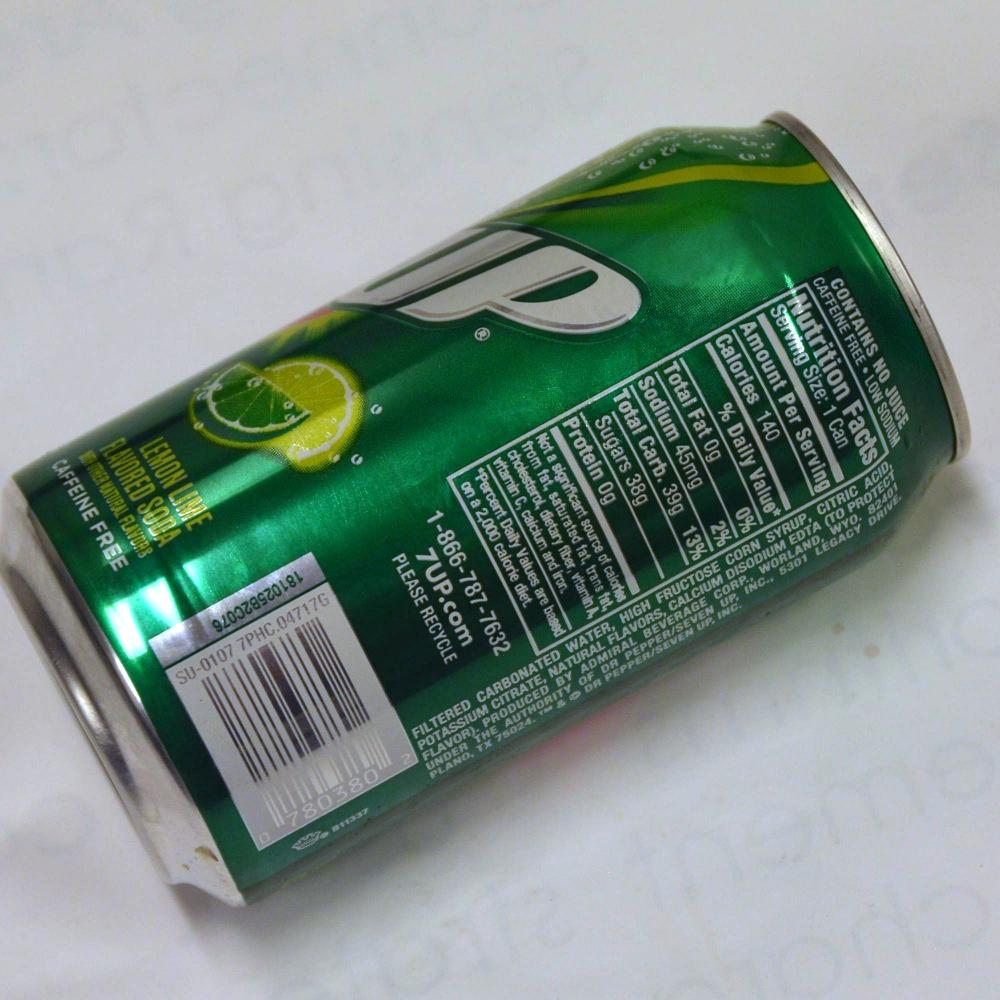Metal: (71, 80, 915, 905)
